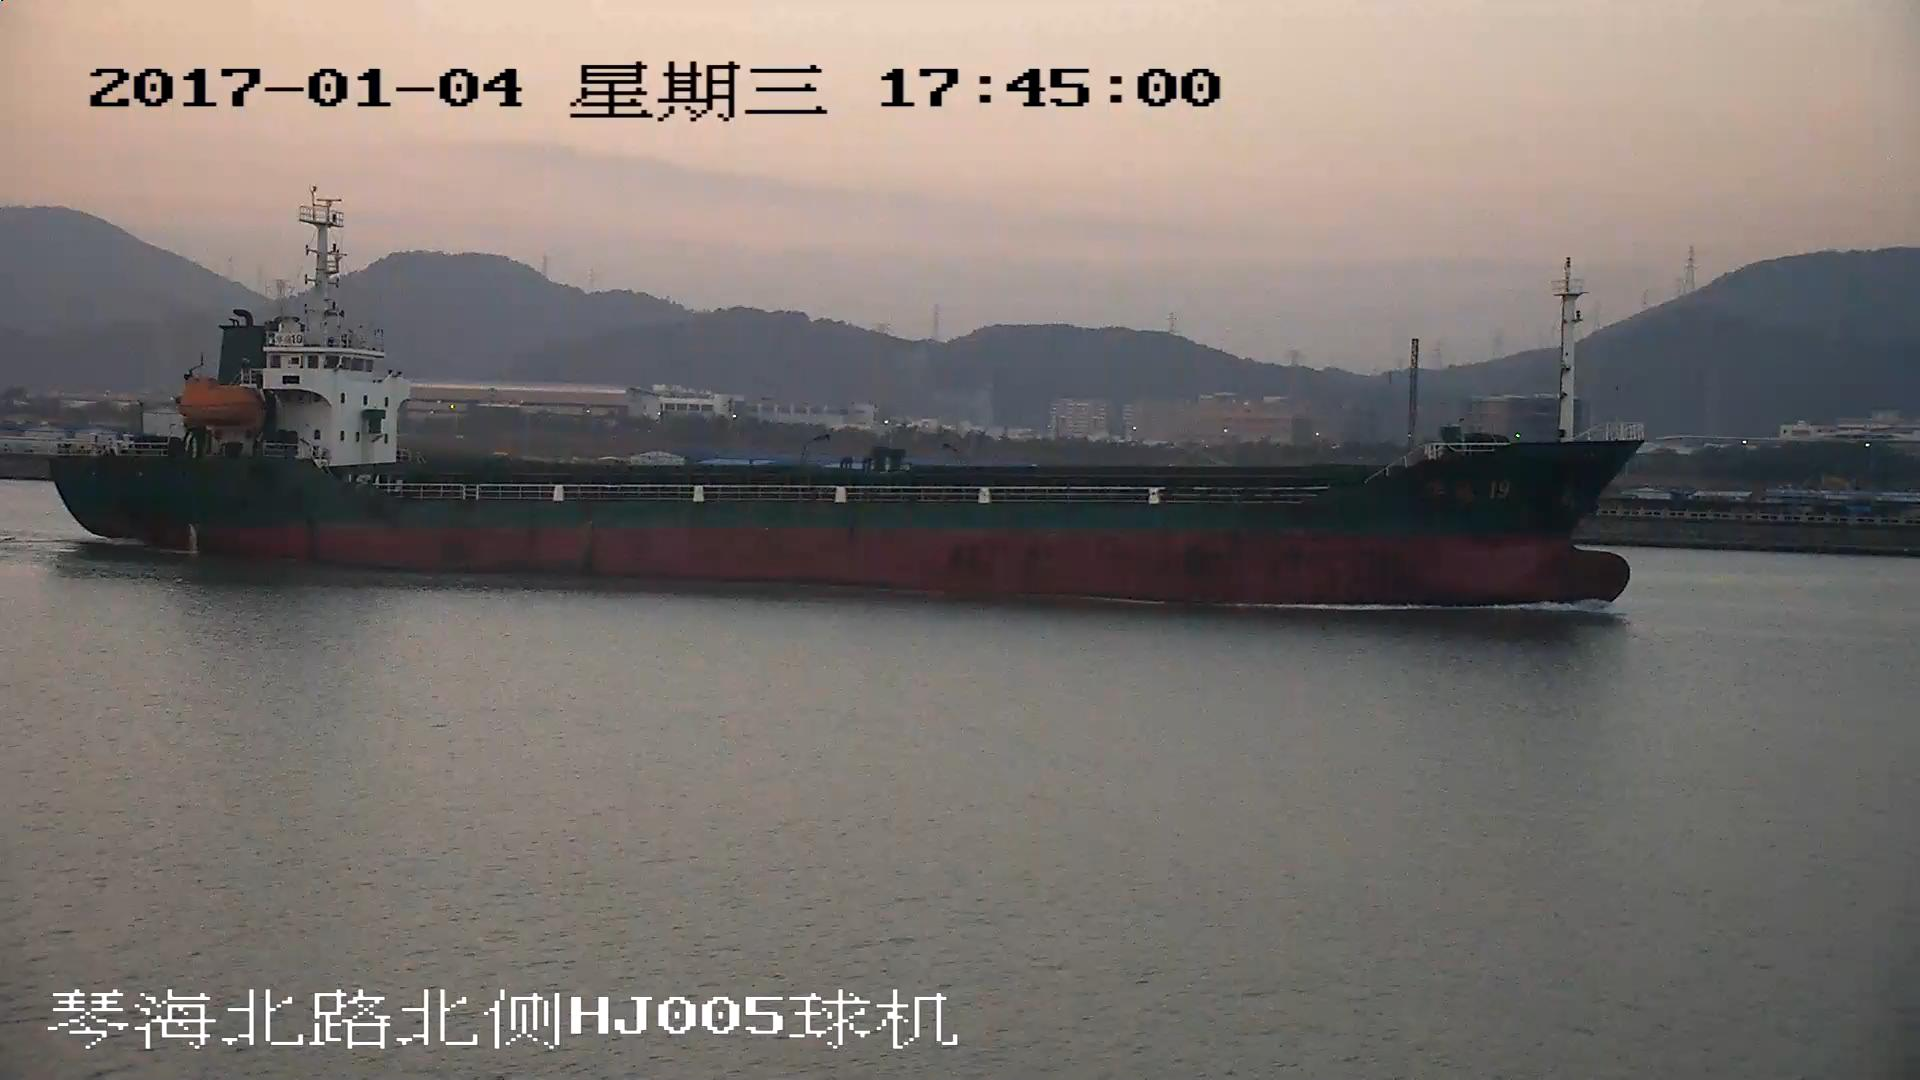general cargo ship: (49, 186, 1642, 604)
